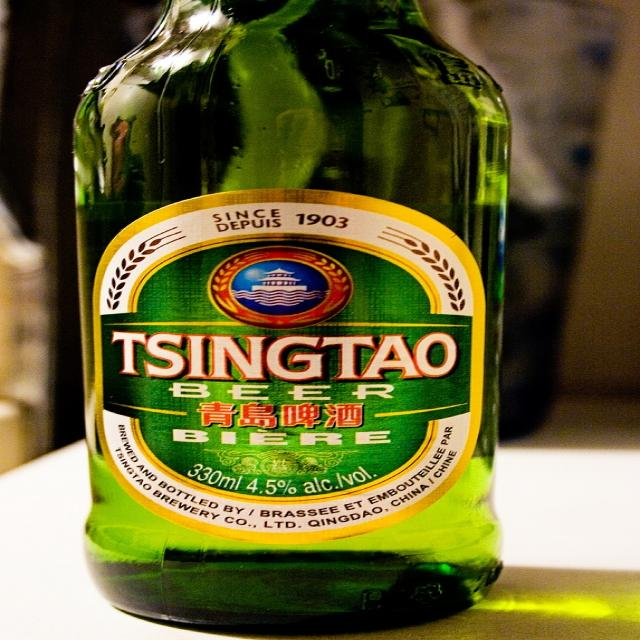tsingtao: (91, 189, 487, 546)
